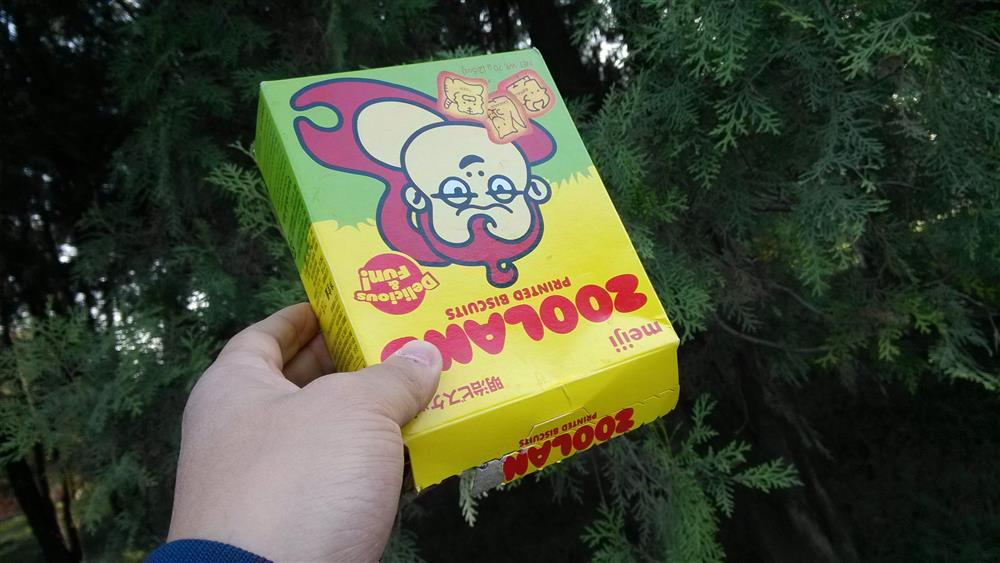zooland: (255, 46, 678, 484)
